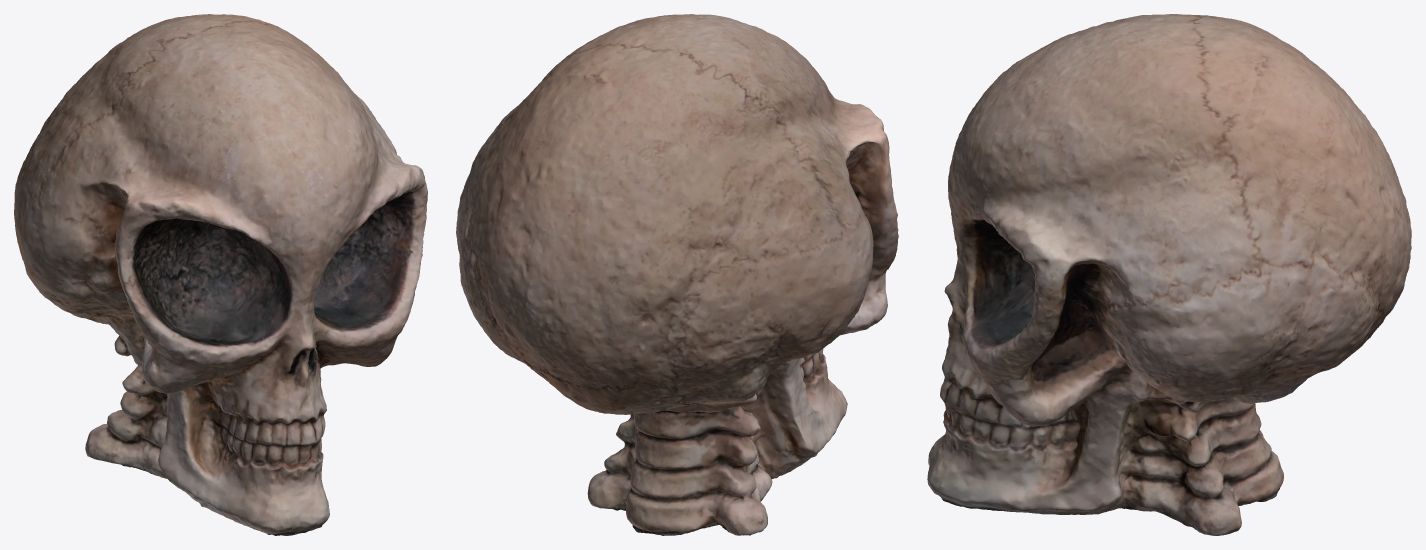
Rendered from alien_skull.glb.
The picture shows the model from 3 angles, left to right: view 1: azimuth 30°, elevation 25°; view 2: azimuth 150°, elevation 25°; view 3: azimuth 270°, elevation 25°; orthographic projection. The views are drawn at different scales.
Visible parts, largest first — view 1: group_0 (×3); view 2: group_0 (×3); view 3: group_0 (×3).
Part boxes in pixels (x1,y1,x2,y2): group_0 (×3): (14, 14, 427, 535); group_0 (×3): (456, 14, 898, 535); group_0 (×3): (927, 14, 1411, 535).
Size of the model in its own units: 0.6114 by 0.695 by 0.6392.
Materials: 1 (1 with a texture image).
